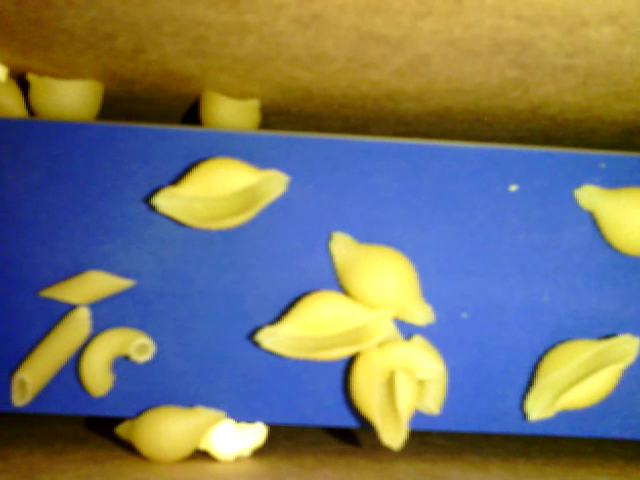elbow: (80, 325, 155, 398), (405, 334, 446, 416)
penne: (11, 302, 94, 406), (39, 266, 135, 308)
shell: (149, 153, 291, 232), (251, 286, 398, 360), (326, 231, 435, 327), (521, 334, 639, 421), (350, 328, 417, 450), (112, 400, 227, 464), (571, 183, 639, 256), (27, 70, 106, 123), (199, 88, 258, 132)
